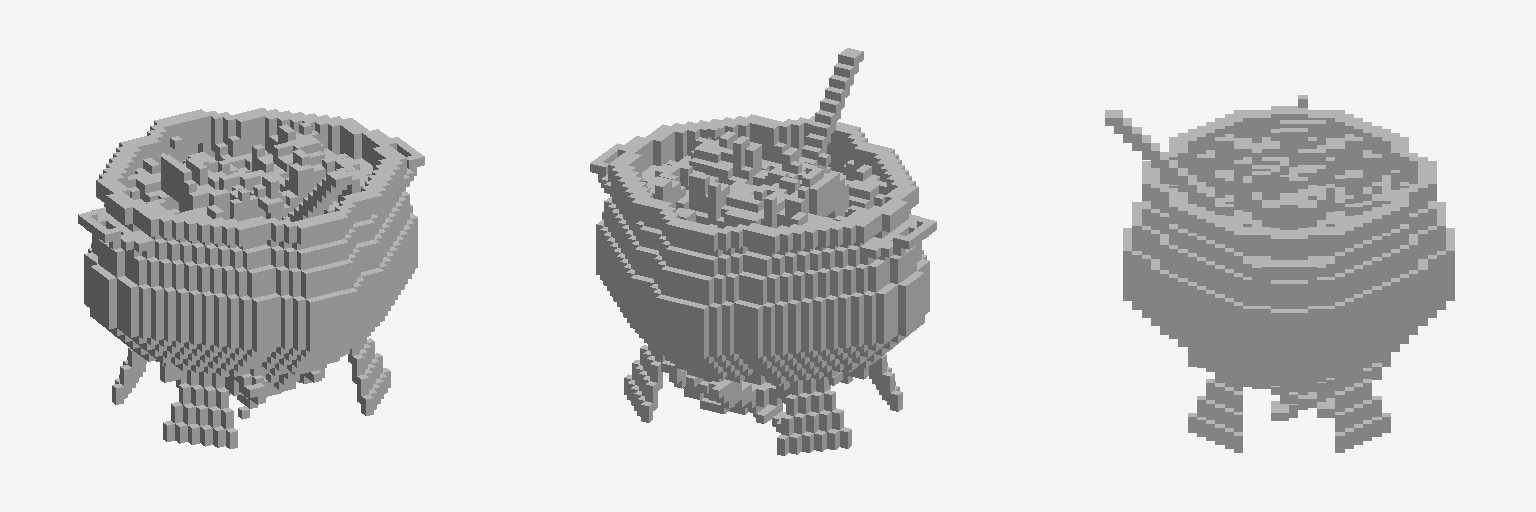
Rendered from potMiniGameD.obj.
The picture shows the model from 3 angles: view 1: azimuth 30°, elevation 25°; view 2: azimuth 150°, elevation 25°; view 3: azimuth 270°, elevation 25°; orthographic projection.
Visible parts, largest first — view 1: object 1; view 2: object 1; view 3: object 1.
Part boxes in pixels (bbox=[...]): object 1: bbox=[78, 108, 424, 448]; object 1: bbox=[590, 48, 936, 455]; object 1: bbox=[1105, 95, 1454, 452].
Size of the model in its own units: 4 by 3.4 by 3.8.